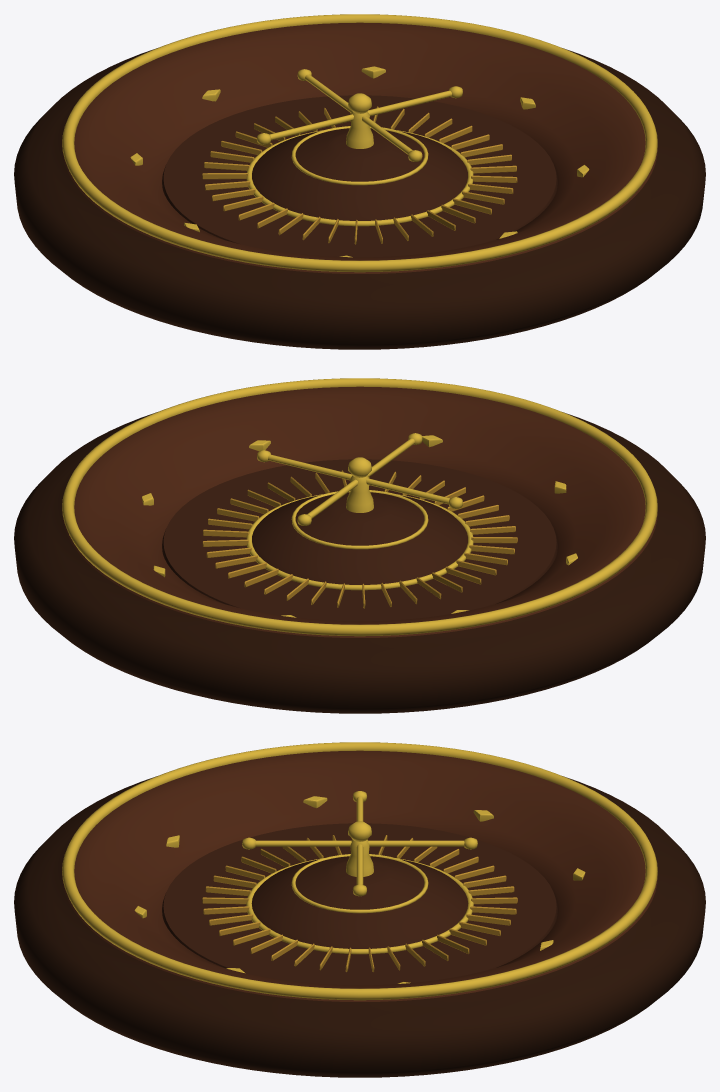
Rendered from wheel.glb.
3 views of the same model, one above another, from view 1: azimuth 30°, elevation 25°; view 2: azimuth 150°, elevation 25°; view 3: azimuth 270°, elevation 25° (orthographic).
Parts seen in each view (by area): view 1: wheel_cabinet, wheel_bowlWood, Rotor_rotorWood, wheel_gold, Rotor_fret, Rotor_gold; view 2: wheel_cabinet, wheel_bowlWood, Rotor_rotorWood, wheel_gold, Rotor_fret, Rotor_gold; view 3: wheel_cabinet, wheel_bowlWood, Rotor_rotorWood, wheel_gold, Rotor_fret, Rotor_gold.
Part boxes in pixels (<box>): wheel_cabinet: <box>14,48,705,349</box>; wheel_bowlWood: <box>62,22,657,273</box>; Rotor_rotorWood: <box>162,95,557,257</box>; wheel_gold: <box>62,14,657,272</box>; Rotor_fret: <box>202,106,517,244</box>; Rotor_gold: <box>246,69,473,226</box>; wheel_cabinet: <box>14,412,705,713</box>; wheel_bowlWood: <box>62,386,657,637</box>; Rotor_rotorWood: <box>162,459,557,621</box>; wheel_gold: <box>62,378,657,636</box>; Rotor_fret: <box>202,470,517,608</box>; Rotor_gold: <box>246,433,473,590</box>; wheel_cabinet: <box>14,776,705,1077</box>; wheel_bowlWood: <box>62,750,657,1001</box>; Rotor_rotorWood: <box>162,823,557,985</box>; wheel_gold: <box>62,742,657,1000</box>; Rotor_fret: <box>202,835,517,972</box>; Rotor_gold: <box>242,791,477,954</box>.
Size of the model in its own units: 1.25 by 0.229 by 1.25.
